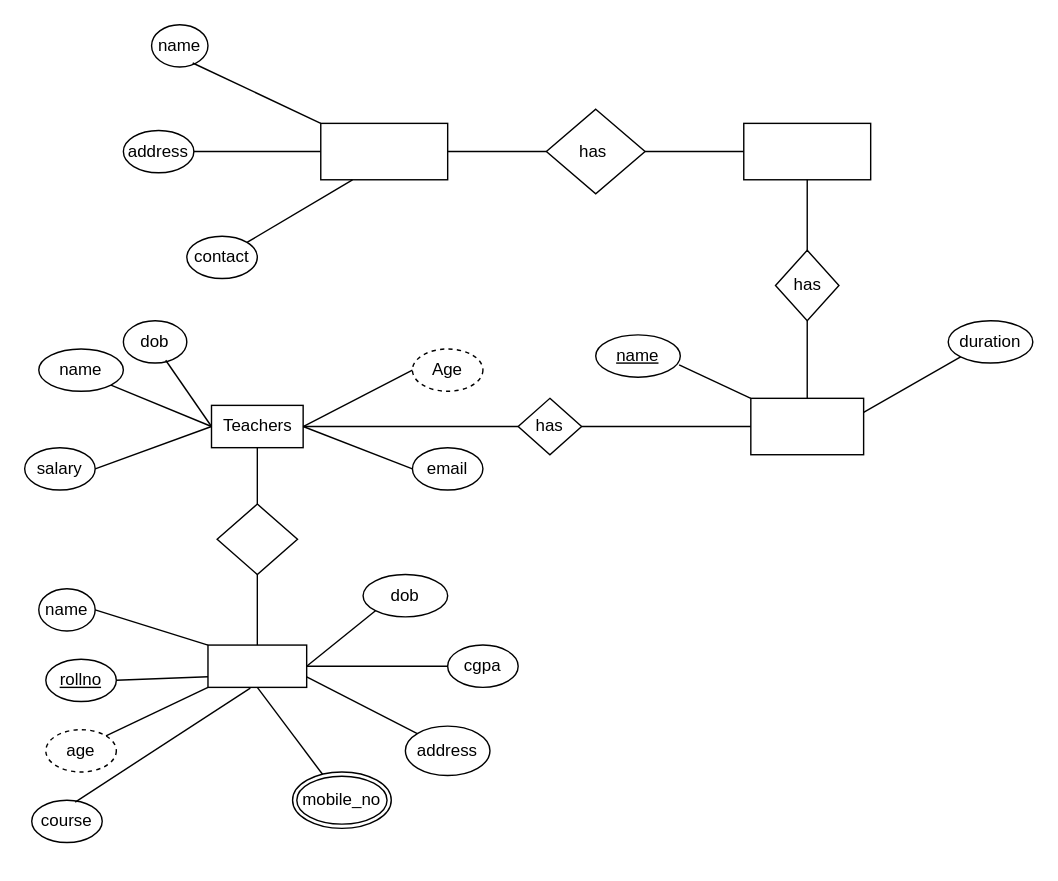
Image size: 1058x881. Some labels were removed from this diagram. Here are the shapes that lost their labels. From the top down, the centre of each, then its label:
the point at 383,151: University
the point at 806,151: Colleges
the point at 806,426: Courses
the point at 257,539: teaches
the point at 257,665: Student
